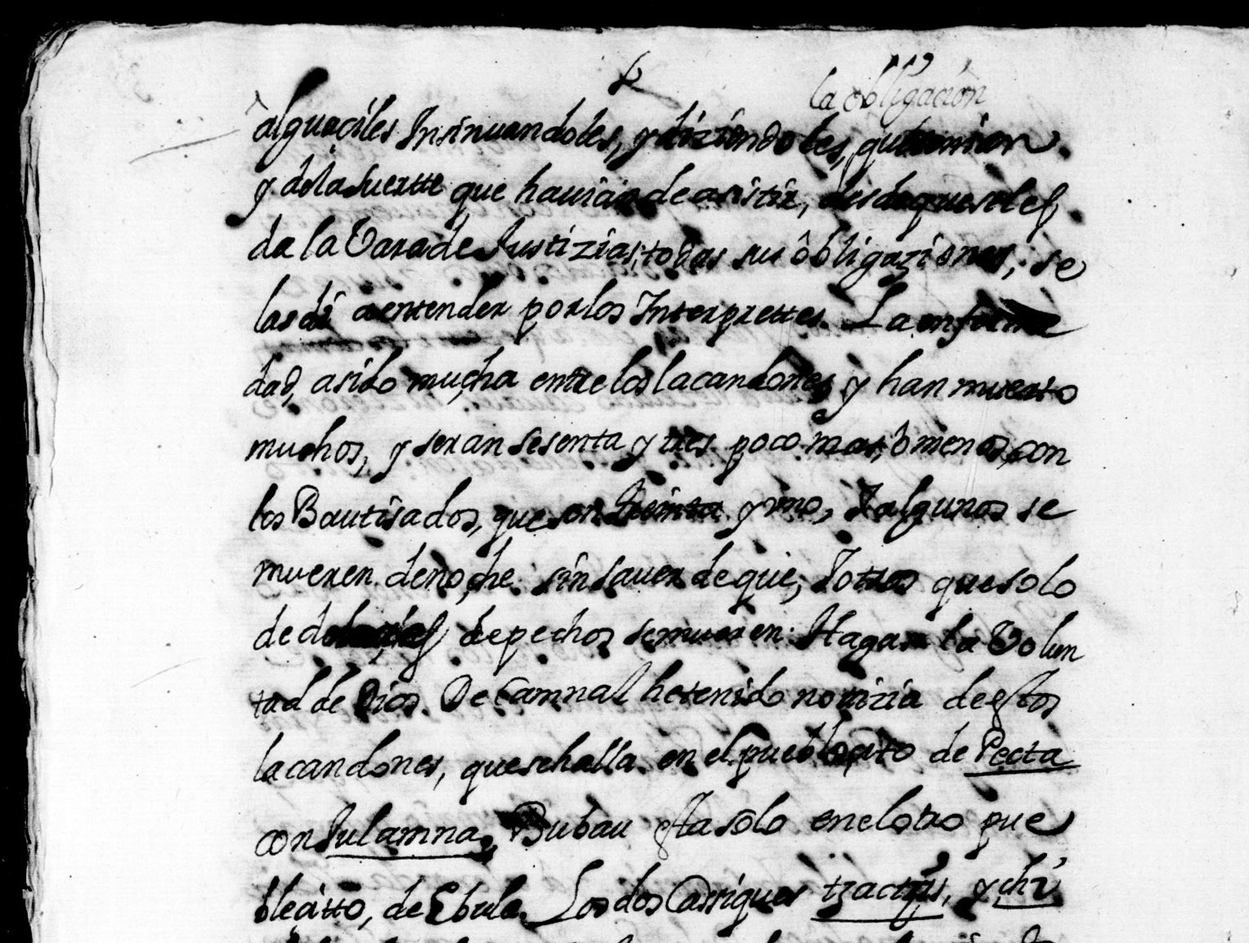lacandon: (253, 728, 444, 781)
